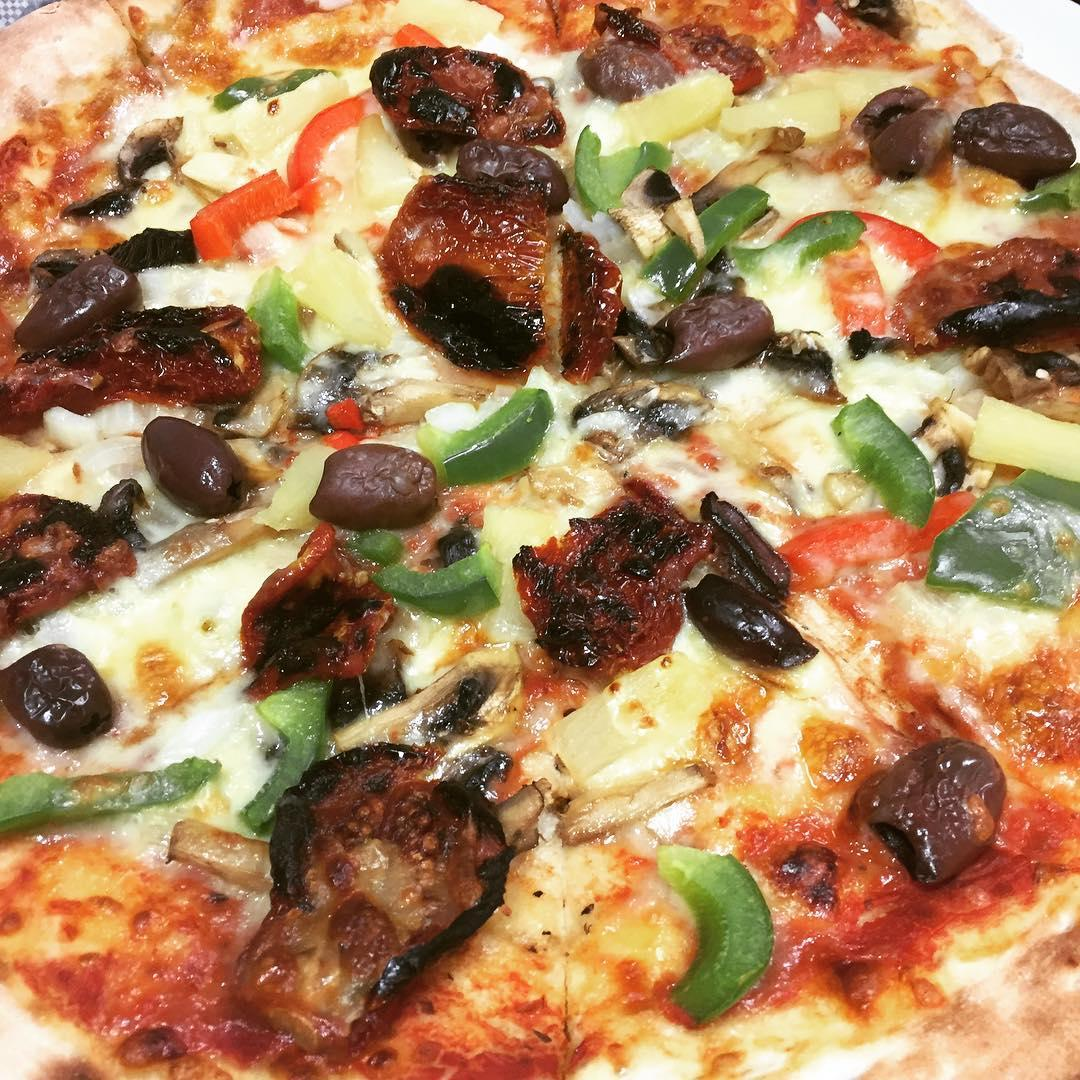Olives: (855, 741, 1010, 892), (685, 488, 803, 677), (0, 632, 112, 748), (142, 410, 251, 516), (649, 289, 774, 374), (956, 103, 1078, 185), (853, 85, 955, 181), (314, 448, 440, 523), (19, 262, 129, 345), (460, 136, 566, 216), (574, 38, 679, 95)
Peppers: (769, 492, 1080, 601), (651, 838, 782, 1011), (641, 178, 770, 295), (4, 767, 219, 834), (345, 538, 503, 622), (826, 397, 932, 510), (245, 685, 325, 830), (778, 210, 933, 277), (292, 89, 378, 204), (192, 174, 295, 262), (416, 415, 542, 482), (579, 125, 669, 208), (248, 271, 314, 367)
Pizza: (0, 0, 1080, 1080)
